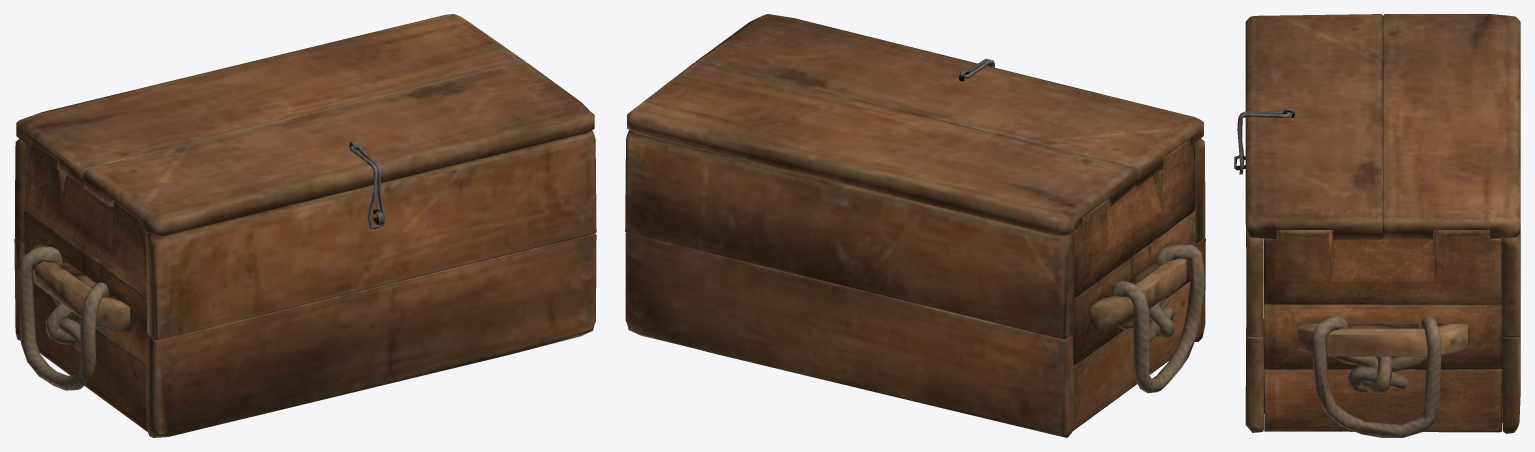
The model's file is wooden_crate_01.glb.
3 views of the same model, side by side, from view 1: azimuth 30°, elevation 25°; view 2: azimuth 150°, elevation 25°; view 3: azimuth 270°, elevation 25° (orthographic). The views are drawn at different scales.
Visible parts, largest first — view 1: wooden_crate_01_lid; view 2: wooden_crate_01_lid; view 3: wooden_crate_01_lid.
Part boxes in pixels (left/top/right/bottom): wooden_crate_01_lid: left=14, top=14, right=596, bottom=437; wooden_crate_01_lid: left=625, top=14, right=1205, bottom=437; wooden_crate_01_lid: left=1234, top=14, right=1520, bottom=437.
Size of the model in its own units: 0.8245 by 0.3495 by 0.4071.
Materials: 1 (1 with a texture image).
